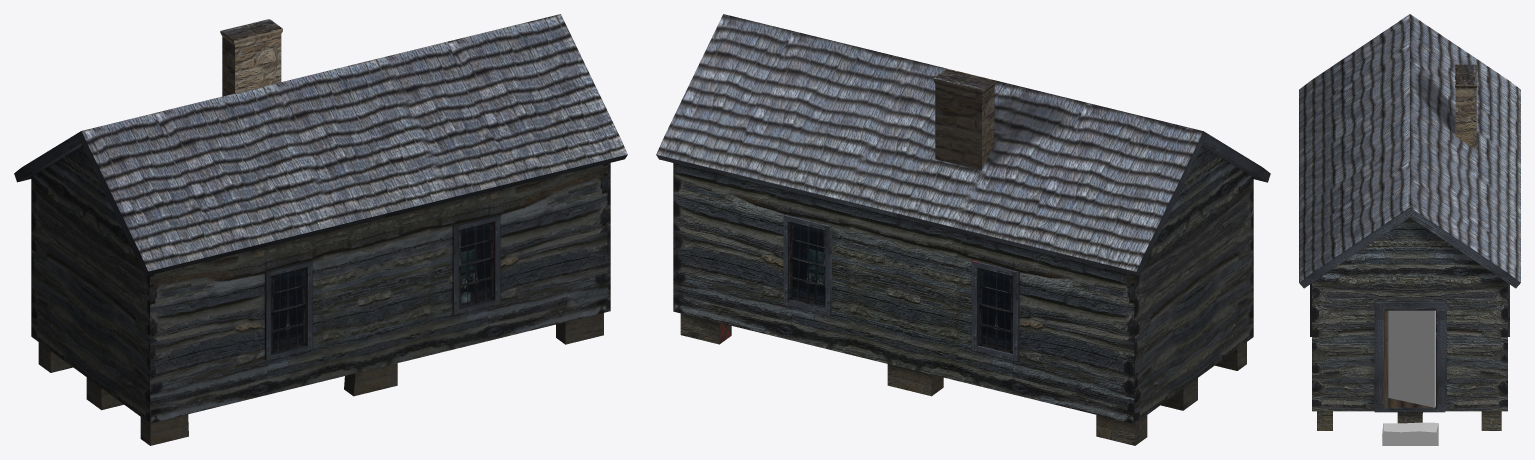
File: SchoolHouse.FBX
3 views of the same model, side by side, from view 1: azimuth 30°, elevation 25°; view 2: azimuth 150°, elevation 25°; view 3: azimuth 270°, elevation 25° (orthographic). The views are drawn at different scales.
Parts seen in each view (by area): view 1: SchoolHouseLoPoly, ChimneyLoPoly001; view 2: SchoolHouseLoPoly, ChimneyLoPoly001; view 3: SchoolHouseLoPoly, Door, ChimneyLoPoly001, StoneStepLoPoly001, SchoolHouseInterior.
Boxes of the visible parts, left/top/right/bottom form: SchoolHouseLoPoly: left=14, top=14, right=627, bottom=445; ChimneyLoPoly001: left=220, top=19, right=282, bottom=96; SchoolHouseLoPoly: left=656, top=14, right=1270, bottom=445; ChimneyLoPoly001: left=933, top=68, right=996, bottom=170; SchoolHouseLoPoly: left=1299, top=14, right=1520, bottom=430; Door: left=1388, top=310, right=1435, bottom=407; ChimneyLoPoly001: left=1455, top=64, right=1477, bottom=150; StoneStepLoPoly001: left=1382, top=422, right=1438, bottom=445; SchoolHouseInterior: left=1384, top=310, right=1435, bottom=407.
Bounding box in the file's own units: 1108 × 637 × 511.
